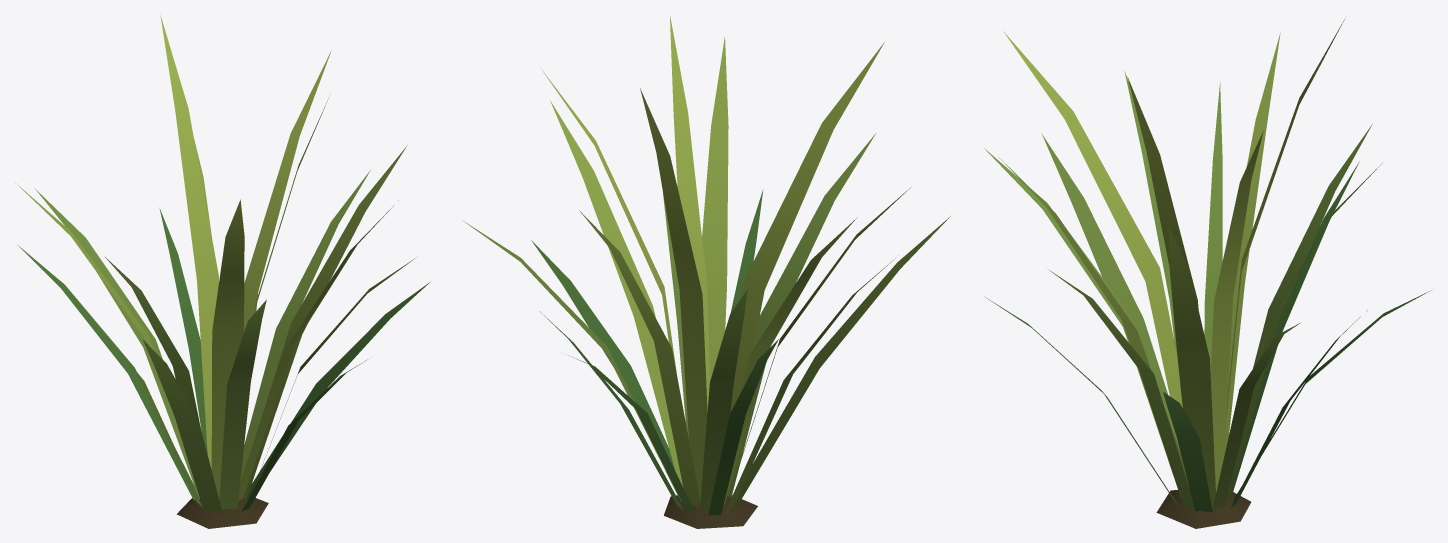
File: grass_tuft_2.glb
3 renders of one model, left to right at view 1: azimuth 30°, elevation 25°; view 2: azimuth 150°, elevation 25°; view 3: azimuth 270°, elevation 25°, orthographic. The views are drawn at different scales.
Visible parts, largest first — view 1: grass_tuft_2; view 2: grass_tuft_2; view 3: grass_tuft_2.
Part boxes in pixels (x1,y1,x2,y2): grass_tuft_2: (15, 15, 429, 528); grass_tuft_2: (463, 16, 950, 528); grass_tuft_2: (984, 17, 1431, 528).
Size of the model in its own units: 0.8 by 0.9 by 0.75.
2 materials, 2 textured.
